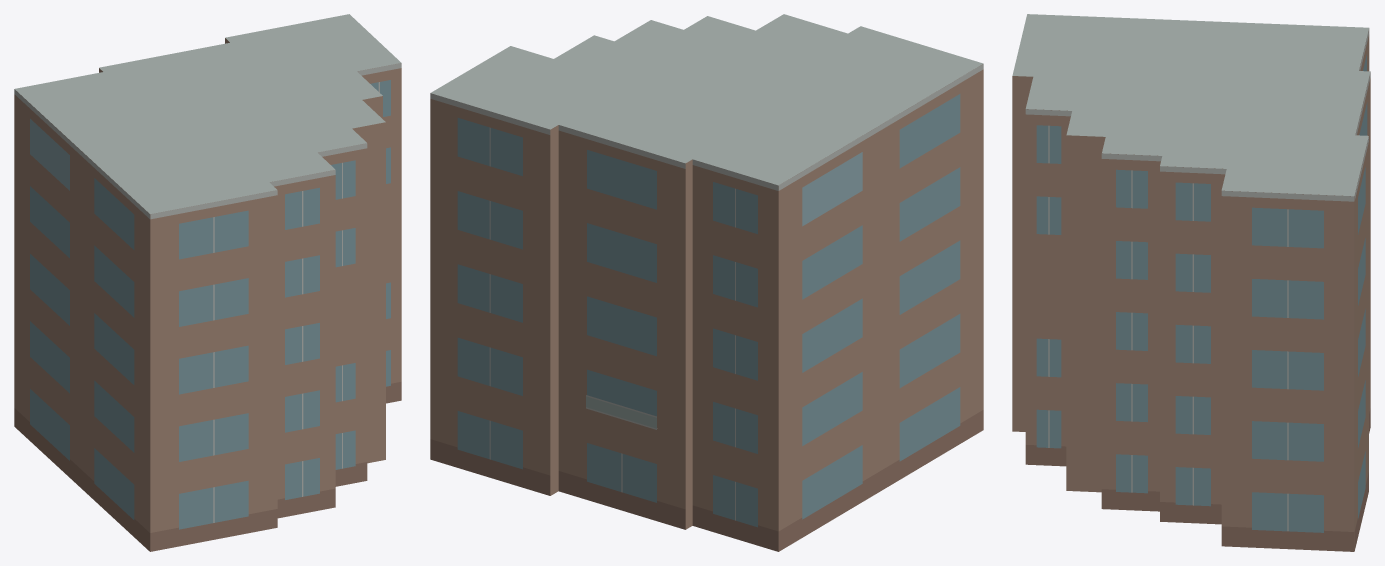
File: survey-upis-32657077.glb
3 views of the same model, side by side, from view 1: azimuth 30°, elevation 25°; view 2: azimuth 150°, elevation 25°; view 3: azimuth 270°, elevation 25° (orthographic). The views are drawn at different scales.
Visible parts, largest first — view 1: survey-upis-32657077.tmp; view 2: survey-upis-32657077.tmp; view 3: survey-upis-32657077.tmp.
Part boxes in pixels (box(x1,y1,x2,y2)): survey-upis-32657077.tmp: box(14, 14, 401, 551); survey-upis-32657077.tmp: box(430, 14, 983, 551); survey-upis-32657077.tmp: box(1012, 14, 1370, 551).
Size of the model in its own units: 17.49 by 15.9 by 14.53.
